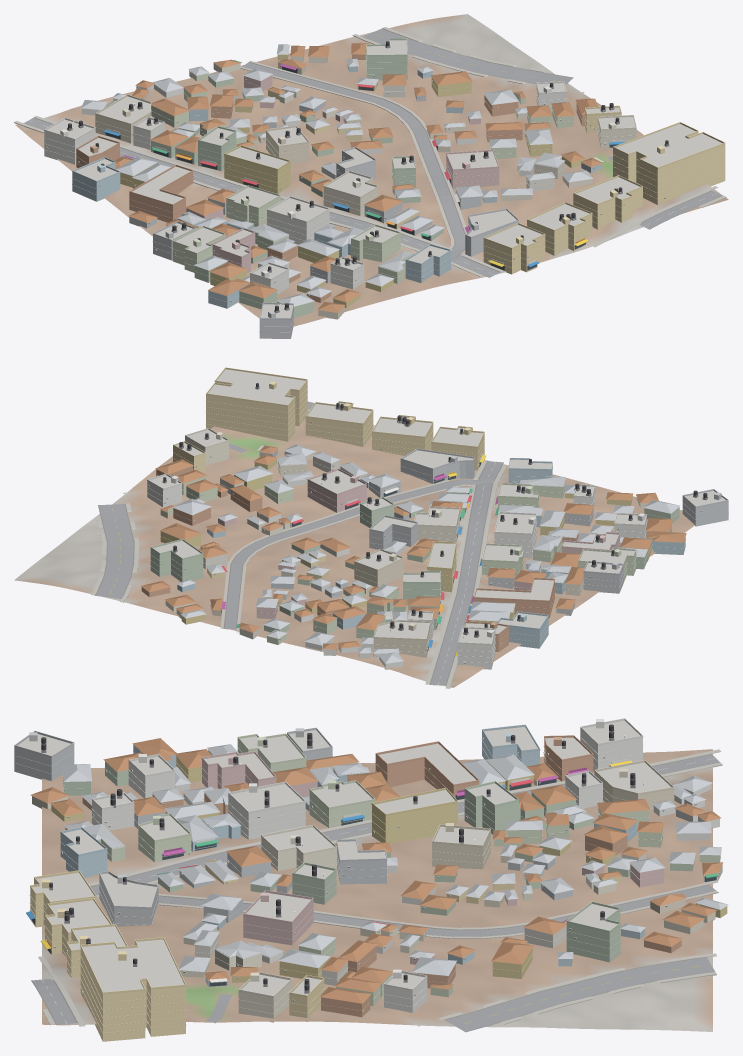
The picture shows the model from 3 angles, top to bottom: view 1: azimuth 30°, elevation 25°; view 2: azimuth 150°, elevation 25°; view 3: azimuth 270°, elevation 25°; orthographic projection. The views are drawn at different scales.
Parts seen in each view (by area): view 1: Buildings-col, Terrain-col, Details, Roads-col, Sidewalks-col; view 2: Buildings-col, Terrain-col, Details, Roads-col, Sidewalks-col; view 3: Buildings-col, Terrain-col, Details, Roads-col, Sidewalks-col.
Boxes of the visible parts, left/top/right/bottom form: Buildings-col: left=44, top=40, right=725, bottom=338; Terrain-col: left=15, top=14, right=728, bottom=326; Details: left=44, top=38, right=725, bottom=332; Roads-col: left=24, top=28, right=722, bottom=277; Sidewalks-col: left=14, top=27, right=726, bottom=276; Buildings-col: left=141, top=369, right=728, bottom=669; Terrain-col: left=14, top=412, right=694, bottom=687; Details: left=147, top=367, right=728, bottom=663; Roads-col: left=95, top=401, right=503, bottom=685; Sidewalks-col: left=91, top=409, right=506, bottom=688; Buildings-col: left=14, top=720, right=728, bottom=1041; Terrain-col: left=42, top=749, right=712, bottom=1031; Details: left=14, top=718, right=719, bottom=1033; Roads-col: left=31, top=754, right=719, bottom=1032; Sidewalks-col: left=38, top=749, right=722, bottom=1026.
Size of the model in its own units: 280 by 32.74 by 273.
